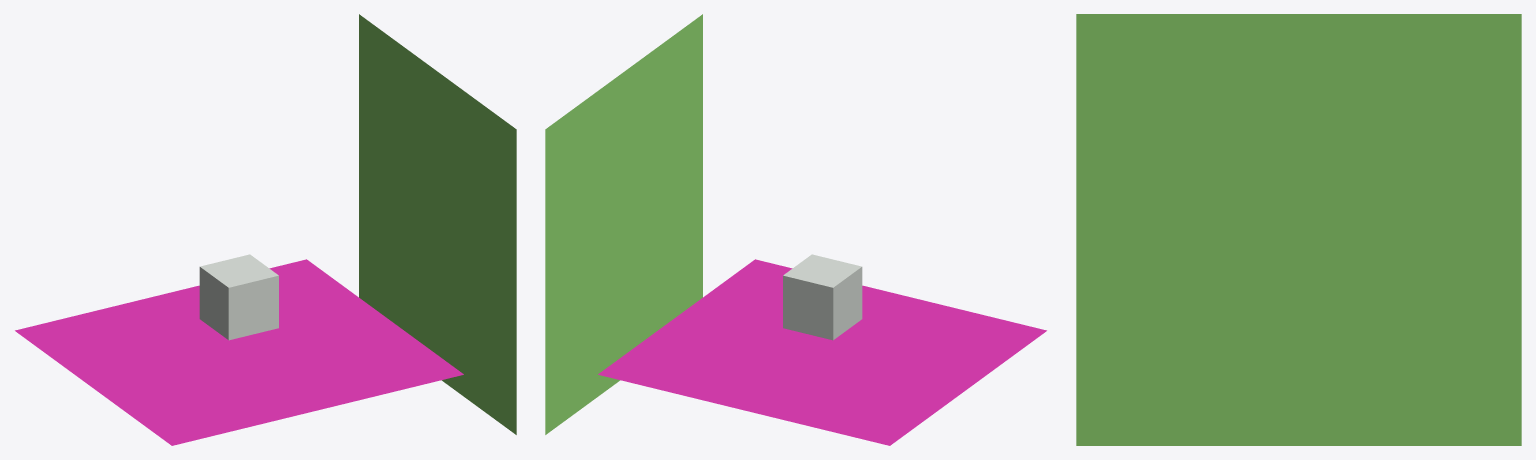
The picture shows the model from 3 angles, left to right: view 1: azimuth 30°, elevation 25°; view 2: azimuth 150°, elevation 25°; view 3: azimuth 270°, elevation 25°; orthographic projection. The views are drawn at different scales.
Visible parts, largest first — view 1: Plane.001, Plane, Cube; view 2: Plane.001, Plane, Cube; view 3: Plane.001.
Part boxes in pixels (box(x1,y1,x2,y2)): Plane.001: box(359, 14, 516, 434); Plane: box(15, 259, 463, 445); Cube: box(199, 254, 278, 340); Plane.001: box(545, 14, 702, 434); Plane: box(598, 259, 1046, 445); Cube: box(783, 254, 862, 340); Plane.001: box(1076, 14, 1521, 445).
Size of the model in its own units: 1371 by 1164 by 1086.
